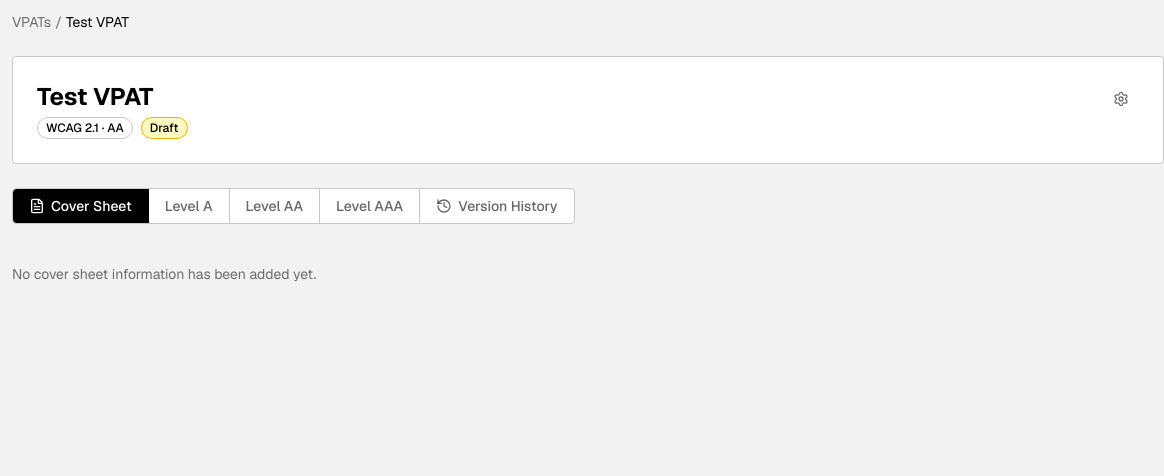
Test: VpatDetailPage (view) › shows criteria table when Level A tab is active
Click the tab "Level A": [189, 206] box x1=149 y1=189 x2=230 y2=223
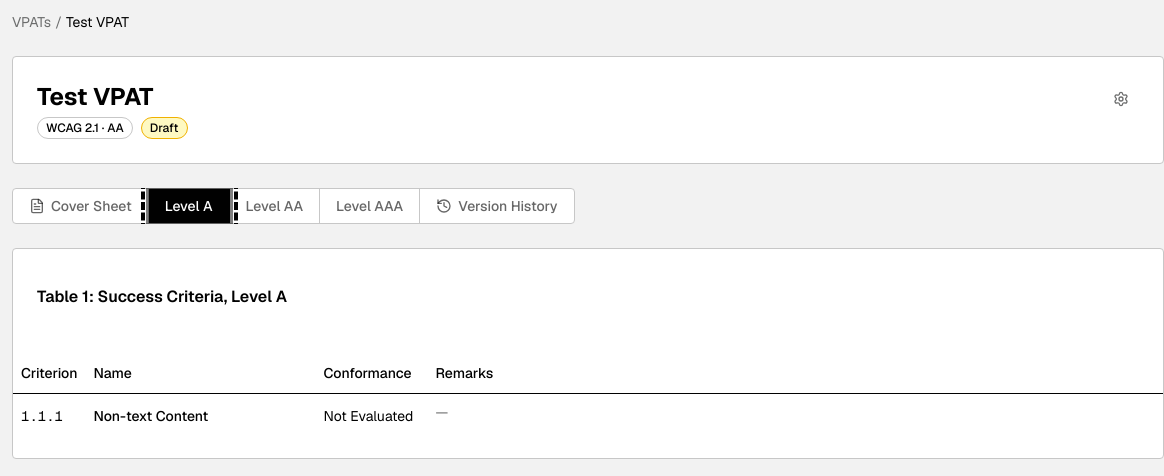
Now the text "1.1.1" is shown, box x1=13 y1=393 x2=86 y2=434
